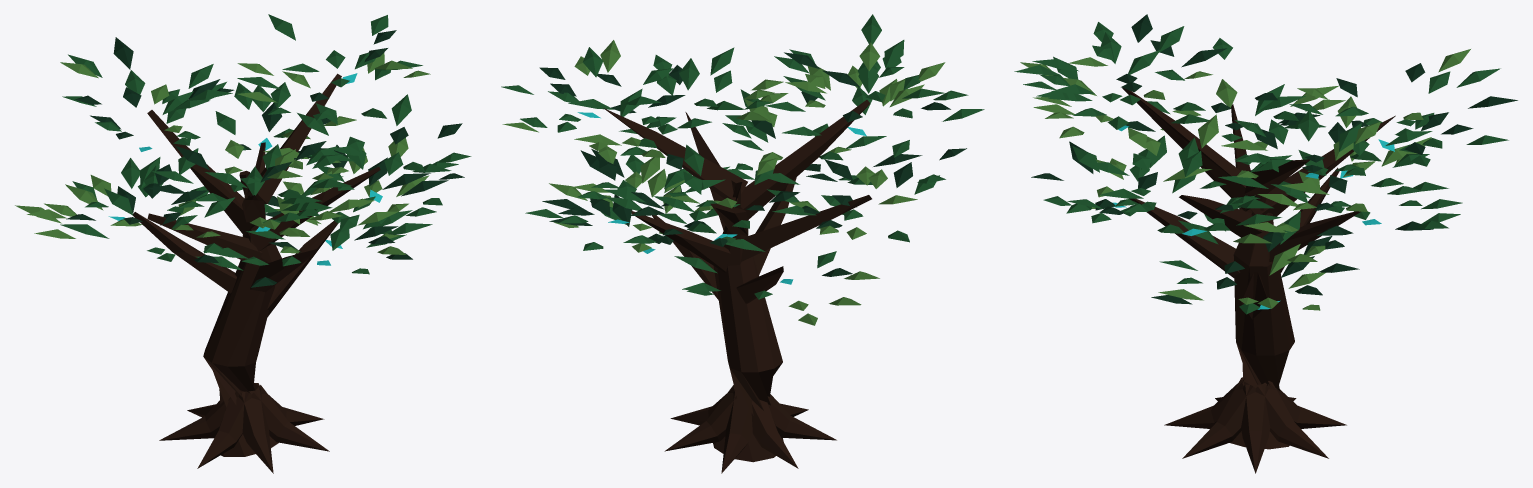
File: Arvore_luminosa_LOD1.fbx
3 renders of one model, left to right at view 1: azimuth 30°, elevation 25°; view 2: azimuth 150°, elevation 25°; view 3: azimuth 270°, elevation 25°, orthographic. The views are drawn at different scales.
Parts seen in each view (by area): view 1: Arvore_luminosa_LOD1; view 2: Arvore_luminosa_LOD1; view 3: Arvore_luminosa_LOD1.
Boxes of the visible parts, x1,y1,x2,y2 form: Arvore_luminosa_LOD1: (15, 14, 471, 473); Arvore_luminosa_LOD1: (501, 14, 984, 473); Arvore_luminosa_LOD1: (1014, 14, 1517, 473).
Bounding box in the file's own units: 461 × 420 × 511.
Materials: 1 (1 with a texture image).
